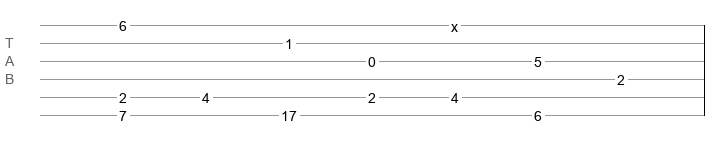0: (368, 54, 376, 64)
1: (285, 36, 293, 46)
17: (281, 108, 297, 118)
2: (119, 90, 127, 100), (368, 90, 376, 100), (617, 72, 625, 82)
4: (202, 90, 210, 100), (451, 90, 459, 100)
5: (534, 54, 542, 64)
6: (119, 18, 127, 28), (534, 108, 542, 118)
7: (119, 108, 127, 118)
x: (451, 19, 458, 27)
